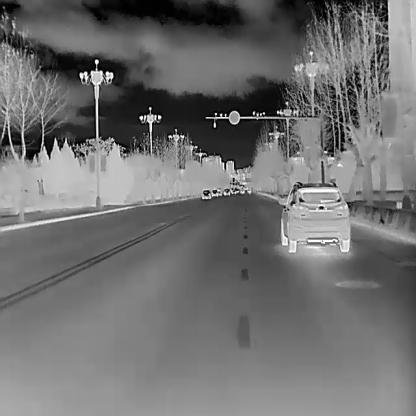car: (281, 180, 350, 251), (201, 189, 211, 200), (211, 189, 219, 198), (223, 188, 229, 196)
